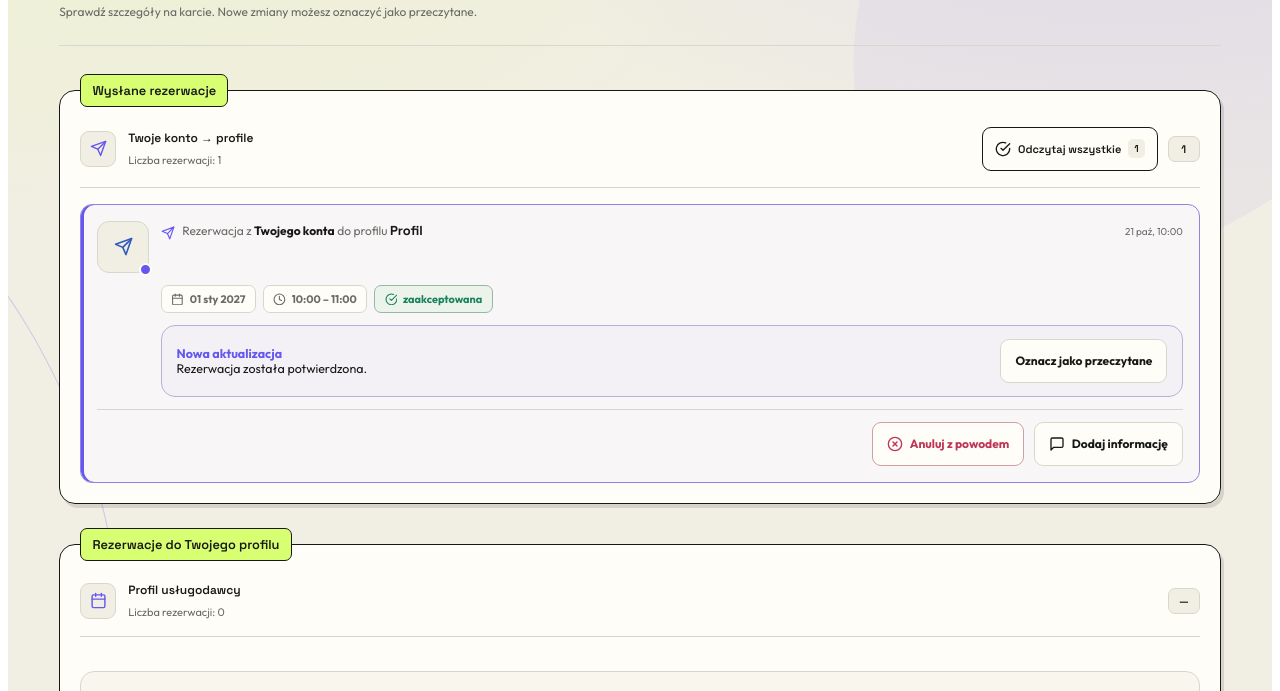
it: confirmation stays unread on entry and acknowledging it preserves the active booking
The width and height of the screenshot is (1280, 691).
(page scrolled)
Expected: the text "Rezerwacja została potwierdzona." is shown, [177, 361, 367, 376]
Click the button "Oznacz jako przeczytane".
click(1084, 361)  # box [1000, 339, 1167, 383]
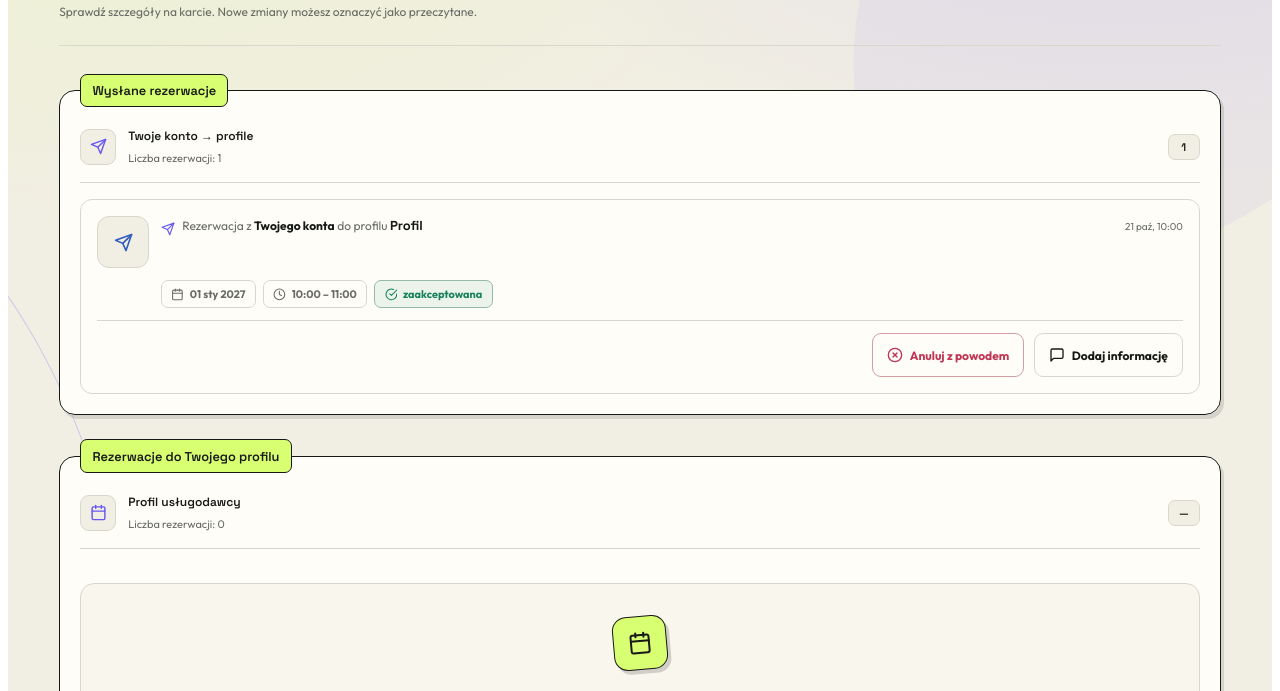
Expected: the button "Anuluj z powodem" is shown, [872, 333, 1024, 377]
Expected: the button "Oznacz jako przeczytane" is gone
